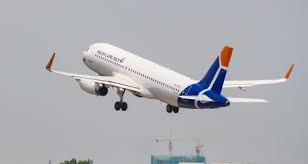maybay_dansu: (45, 38, 294, 110)
